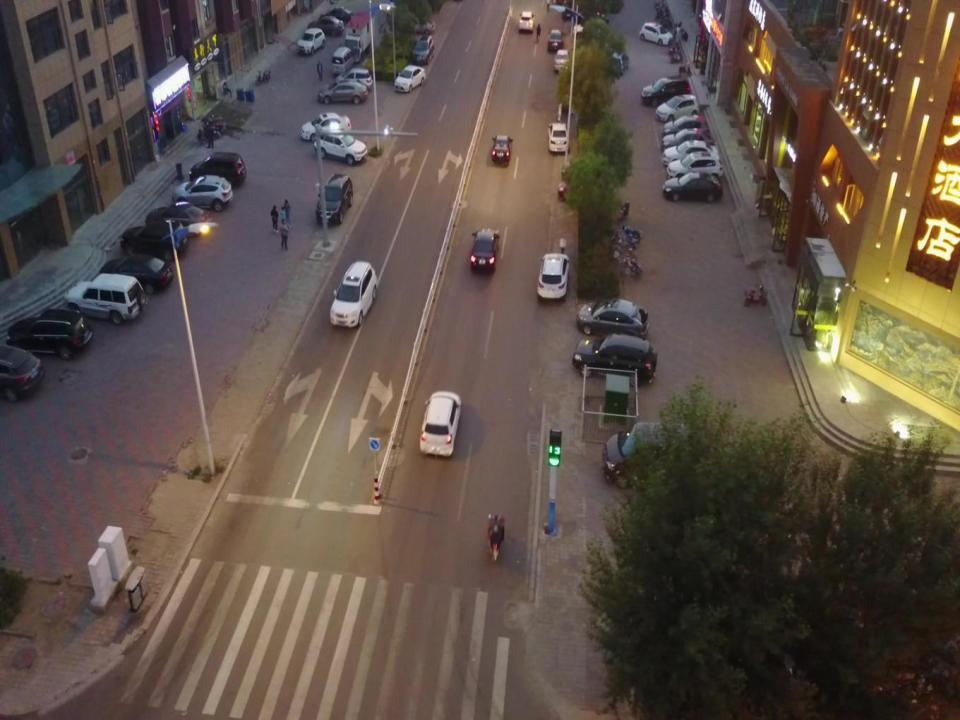car: (572, 332, 657, 387), (5, 308, 92, 360), (329, 260, 378, 328), (577, 298, 649, 342), (98, 254, 174, 295), (419, 391, 461, 456), (120, 222, 188, 261), (0, 343, 44, 401), (144, 201, 212, 238), (171, 174, 233, 212), (188, 152, 246, 188), (314, 128, 367, 166), (666, 150, 723, 182), (662, 172, 722, 202), (536, 252, 570, 303), (661, 139, 718, 168), (301, 112, 351, 142), (557, 174, 609, 202), (470, 227, 500, 274), (662, 126, 714, 152), (654, 93, 699, 122), (317, 80, 368, 105), (562, 158, 602, 183), (663, 115, 709, 136), (334, 67, 372, 91), (306, 15, 344, 38), (393, 64, 425, 91), (297, 28, 326, 56), (639, 22, 673, 45), (547, 122, 570, 154), (411, 34, 434, 65), (572, 18, 607, 38), (491, 134, 513, 165), (318, 6, 352, 25), (404, 16, 435, 34), (607, 52, 629, 75), (547, 28, 565, 53), (553, 49, 570, 73), (518, 10, 534, 33)
truck: (339, 13, 375, 63)
van: (602, 418, 699, 489), (64, 273, 148, 325), (312, 172, 353, 225), (640, 76, 690, 108), (330, 46, 354, 76)
